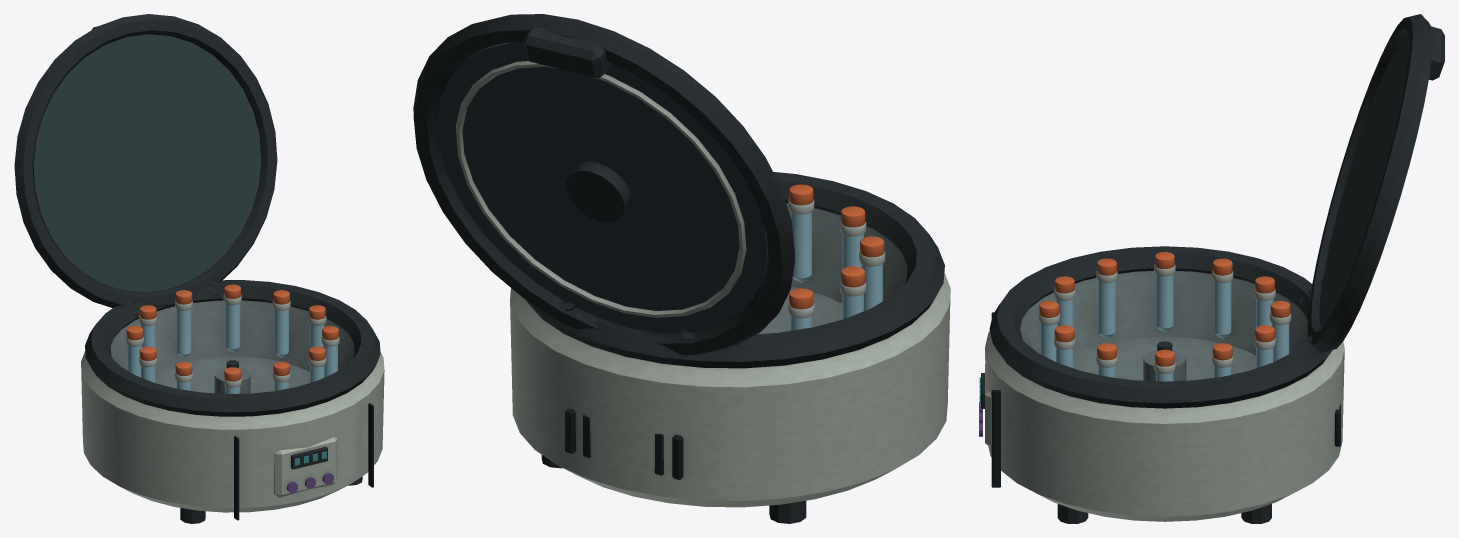
Rendered from centrifuge.obj.
3 renders of one model, left to right at view 1: azimuth 30°, elevation 25°; view 2: azimuth 150°, elevation 25°; view 3: azimuth 270°, elevation 25°, orthographic. The views are drawn at different scales.
Visible parts, largest first — view 1: Lid_smoky_window, Centrifuge_body, Lid_outer_frame, Thick_rubber_opening, Control_module, Rounded_glass_tube_03, Rounded_glass_tube_02, Rounded_glass_tube_01, Rotor_hub, Front_casing_seam, Front_casing_seam.001, Display; view 2: Centrifuge_body, Lid_smoky_window, Lid_outer_frame, Thick_rubber_opening, Lid_raised_ring, Lid_central_fitting, Lid_handle, Rounded_glass_tube_09, Rounded_glass_tube_07, Rubber_foot.001; view 3: Centrifuge_body, Thick_rubber_opening, Lid_outer_frame, Lid_smoky_window, Rounded_glass_tube_07, Front_casing_seam.001, Rounded_glass_tube_05, Rounded_glass_tube_06, Rotor_hub, Lid_handle, Rounded_glass_tube_03.
Part boxes in pixels (bbox=[...]): Lid_smoky_window: bbox=[32, 34, 261, 292]; Centrifuge_body: bbox=[81, 300, 384, 512]; Lid_outer_frame: bbox=[14, 14, 277, 308]; Thick_rubber_opening: bbox=[85, 280, 380, 416]; Control_module: bbox=[274, 436, 337, 497]; Rounded_glass_tube_03: bbox=[176, 309, 191, 357]; Rounded_glass_tube_02: bbox=[225, 303, 240, 352]; Rounded_glass_tube_01: bbox=[274, 309, 288, 357]; Rotor_hub: bbox=[214, 367, 250, 393]; Front_casing_seam: bbox=[234, 436, 239, 520]; Front_casing_seam.001: bbox=[368, 403, 373, 487]; Display: bbox=[291, 447, 327, 469]; Centrifuge_body: bbox=[510, 203, 950, 507]; Lid_smoky_window: bbox=[436, 42, 768, 333]; Lid_outer_frame: bbox=[413, 14, 794, 354]; Thick_rubber_opening: bbox=[526, 172, 944, 368]; Lid_raised_ring: bbox=[456, 61, 746, 317]; Lid_central_fitting: bbox=[565, 162, 630, 222]; Lid_handle: bbox=[523, 26, 610, 78]; Rounded_glass_tube_09: bbox=[790, 212, 811, 282]; Rounded_glass_tube_07: bbox=[861, 264, 882, 310]; Rubber_foot.001: bbox=[769, 500, 806, 523]; Centrifuge_body: bbox=[985, 271, 1344, 521]; Thick_rubber_opening: bbox=[989, 246, 1332, 408]; Lid_outer_frame: bbox=[1307, 14, 1433, 352]; Lid_smoky_window: bbox=[1319, 36, 1409, 327]; Rounded_glass_tube_07: bbox=[1098, 281, 1115, 338]; Front_casing_seam.001: bbox=[991, 390, 1000, 487]; Rounded_glass_tube_05: bbox=[1214, 281, 1231, 338]; Rounded_glass_tube_06: bbox=[1156, 274, 1173, 331]; Rotor_hub: bbox=[1143, 350, 1186, 381]; Lid_handle: bbox=[1429, 26, 1444, 80]; Rounded_glass_tube_03: bbox=[1271, 323, 1289, 361].
Size of the model in its own units: 0.47 by 0.6362 by 0.6082.
Materials: 5 (1 with a texture image).
